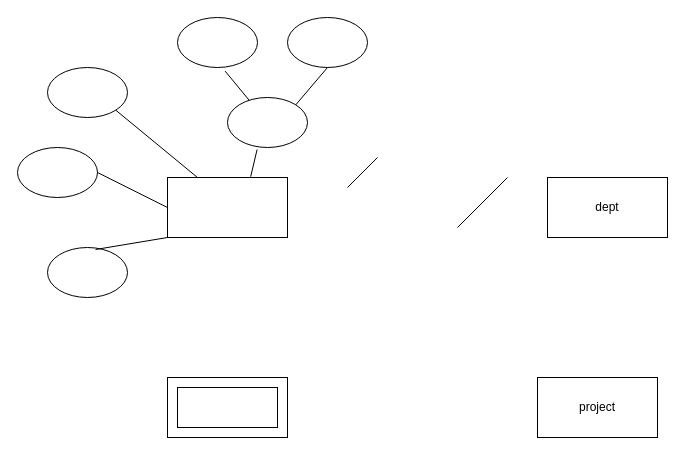
Image size: 685x455. Some labels were removed from this diagram. Here are the shapes that lost their labels. From the top down, the centre of each, then its label:
At pixel 227 207: "emp".
At pixel 227 407: "dependent".
